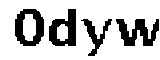0: (11, 3, 47, 53)
d: (50, 7, 81, 50)
w: (114, 14, 160, 51)
y: (81, 15, 112, 60)
